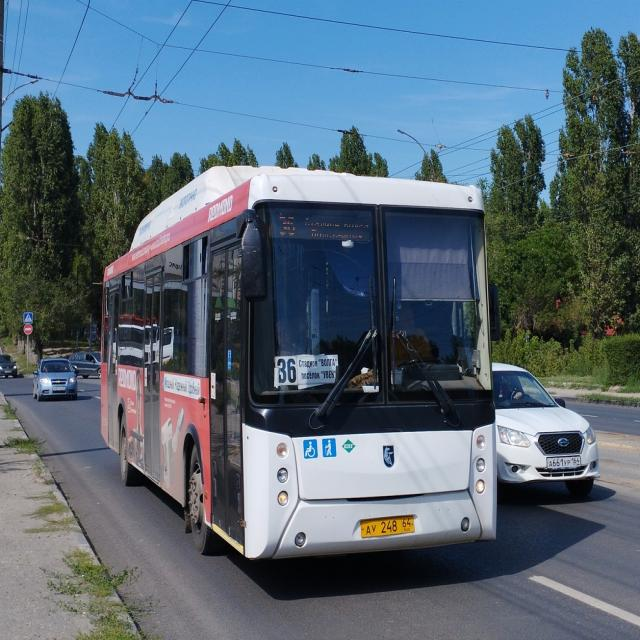number-of-bus: (275, 357, 299, 387)
